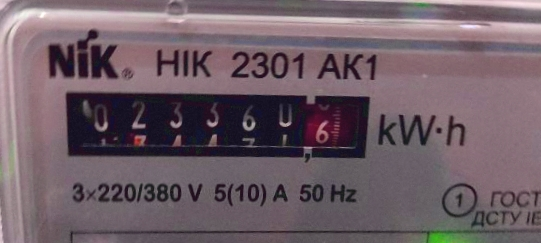0: (88, 98, 112, 134), (272, 97, 296, 130)
2: (127, 96, 150, 131)
3: (202, 94, 223, 129), (163, 98, 184, 130)
6: (236, 99, 260, 133), (311, 113, 334, 148)
screen: (44, 65, 388, 183)
